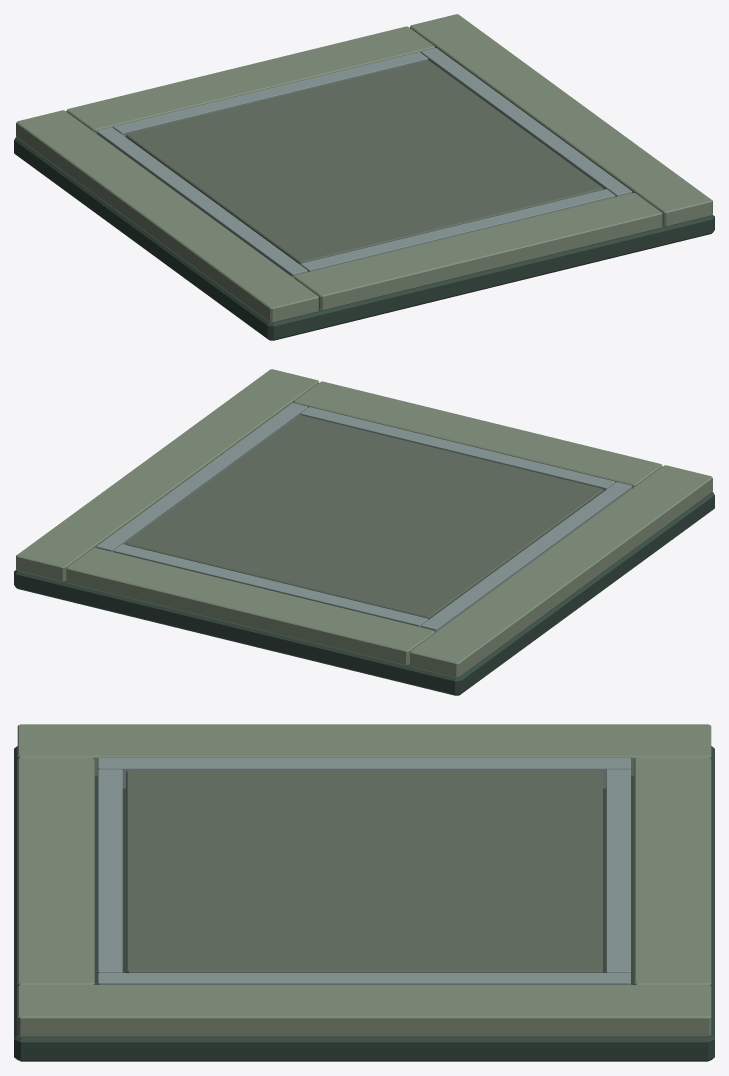
The model's file is floor-inset.glb.
3 views of the same model, one above another, from view 1: azimuth 30°, elevation 25°; view 2: azimuth 150°, elevation 25°; view 3: azimuth 270°, elevation 25° (orthographic). The views are drawn at different scales.
Visible parts, largest first — view 1: floor-inset__body; view 2: floor-inset__body; view 3: floor-inset__body.
Boxes of the visible parts, bbox=[...] form: floor-inset__body: bbox=[14, 14, 714, 340]; floor-inset__body: bbox=[14, 369, 714, 695]; floor-inset__body: bbox=[14, 724, 714, 1061].
Bounding box in the file's own units: 2 × 0.14 × 2.
